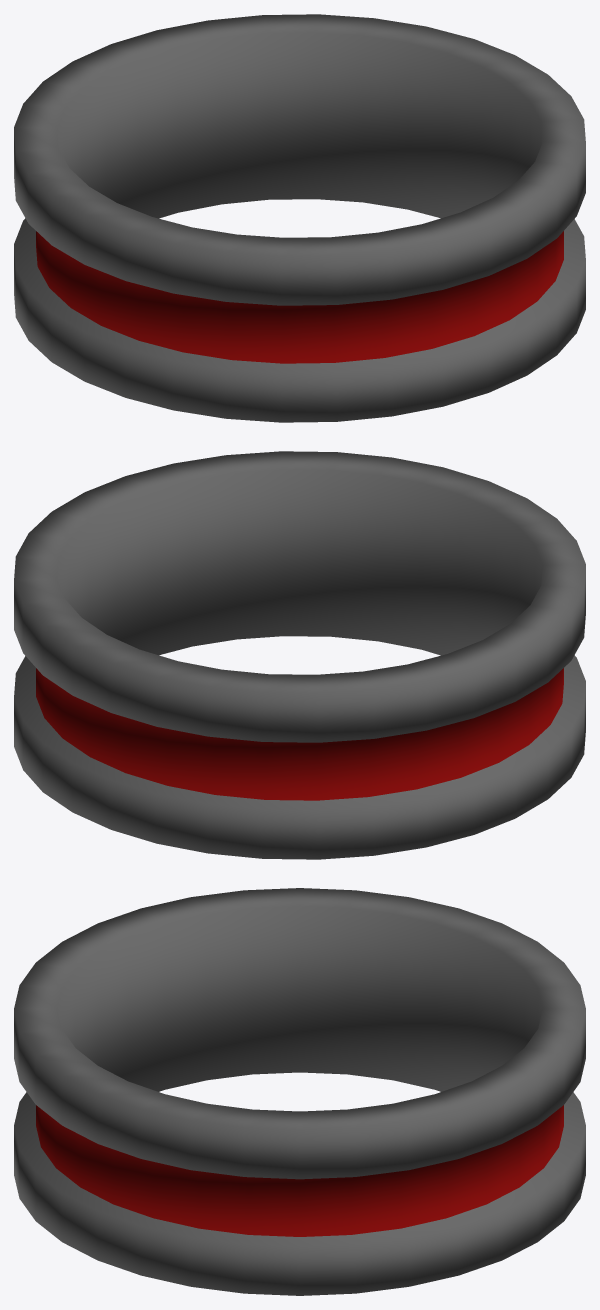
Rendered from BillytheBarbarianRings.glb.
The picture shows the model from 3 angles, top to bottom: view 1: azimuth 30°, elevation 25°; view 2: azimuth 150°, elevation 25°; view 3: azimuth 270°, elevation 25°; orthographic projection.
Visible parts, largest first — view 1: SpikeAroundRing; view 2: SpikeAroundRing; view 3: SpikeAroundRing.
Part boxes in pixels (box(x1,y1,x2,y2)): SpikeAroundRing: box(14, 14, 585, 422); SpikeAroundRing: box(14, 451, 585, 859); SpikeAroundRing: box(14, 888, 585, 1295).
Size of the model in its own units: 2 by 0.6414 by 2.
